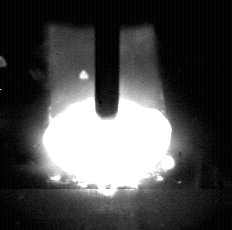arame: (96, 0, 121, 120)
poca: (43, 0, 172, 230)
